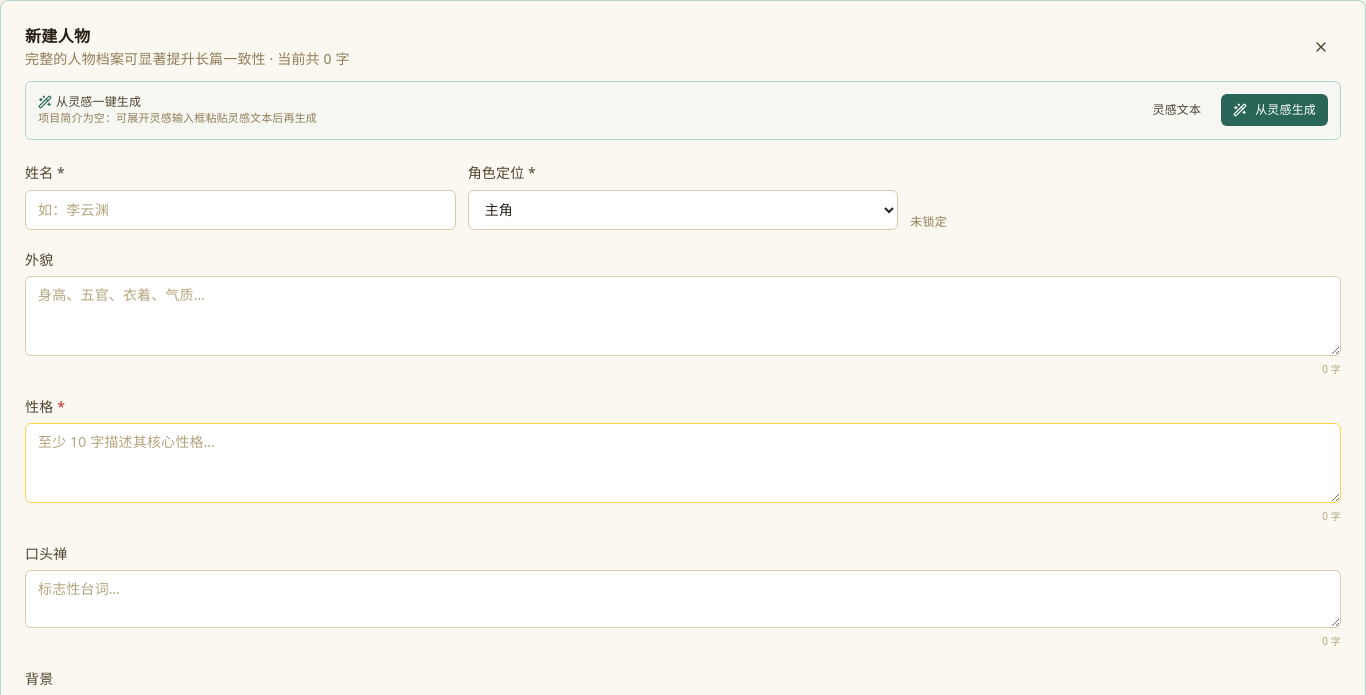
Test: CharacterForm › 项目简介为空且未粘贴灵感时提示并展开灵感输入框
Expected: the text "项目简介为空：可展开灵感输入框粘贴灵感文本后再生成" is shown, left=38, top=110, right=317, bottom=126
Click the button "从灵感生成" at (1275, 110), box left=1221, top=94, right=1328, bottom=126
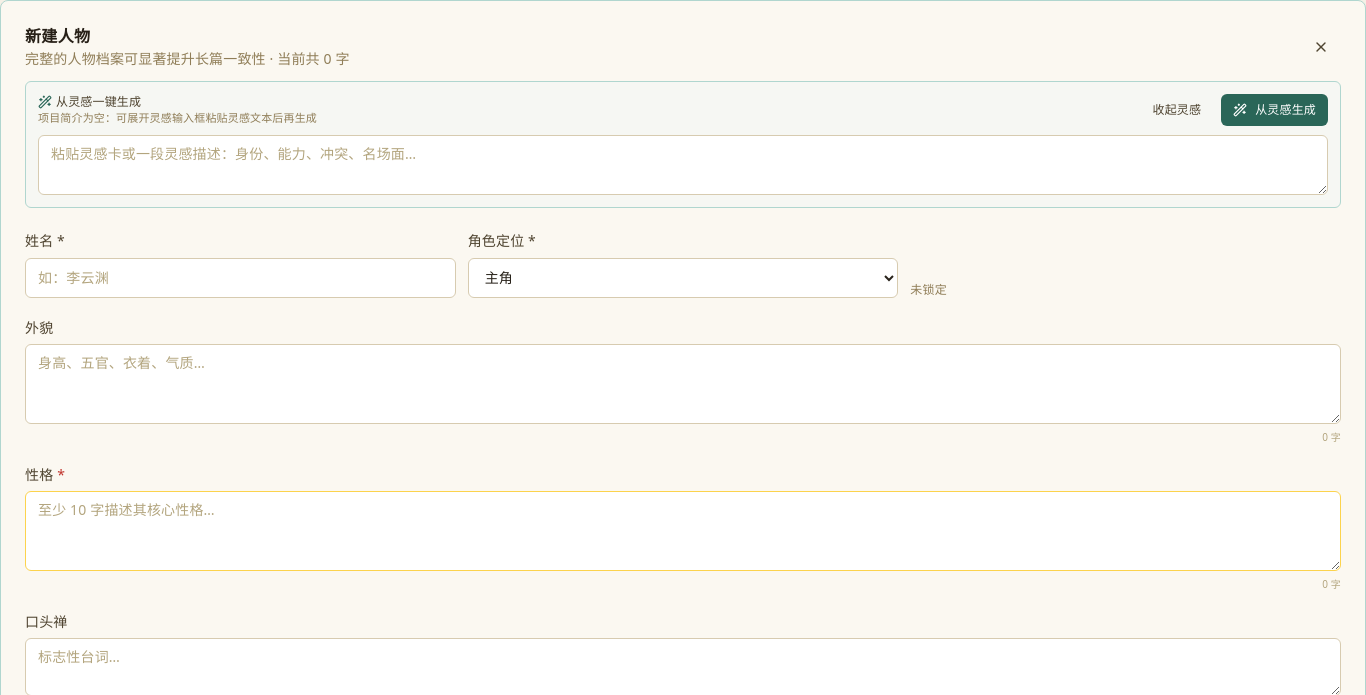
Result: the text box with placeholder "粘贴灵感卡或一段灵感描述：身份、能力、冲突、名场面…" is shown at left=38, top=134, right=1328, bottom=194
